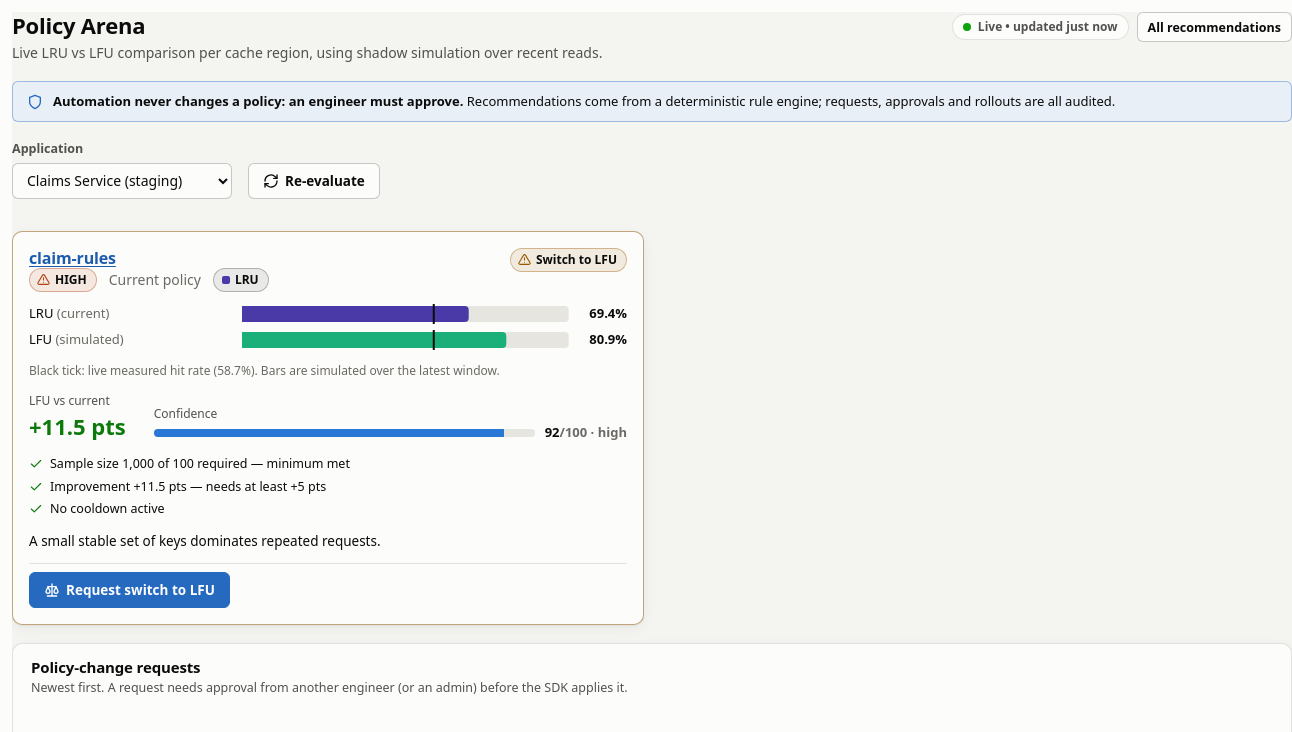
Test case: Policy Arena: recommendations › re-evaluates on demand (ENGINEER+)
Step 1. Click the button "Re-evaluate" → (314, 181), box [248,163,380,199]
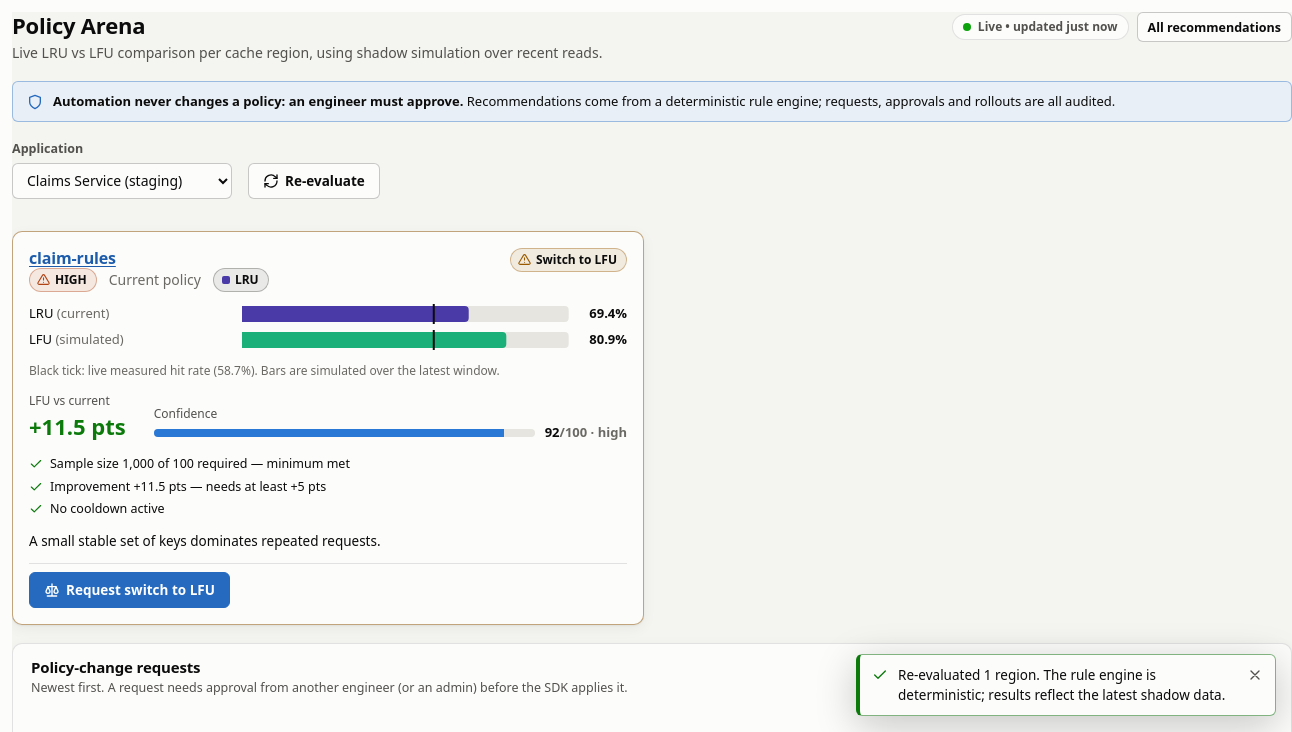
Now the text "Re-evaluated 1 region" is shown, box [898,666,1225,704]
